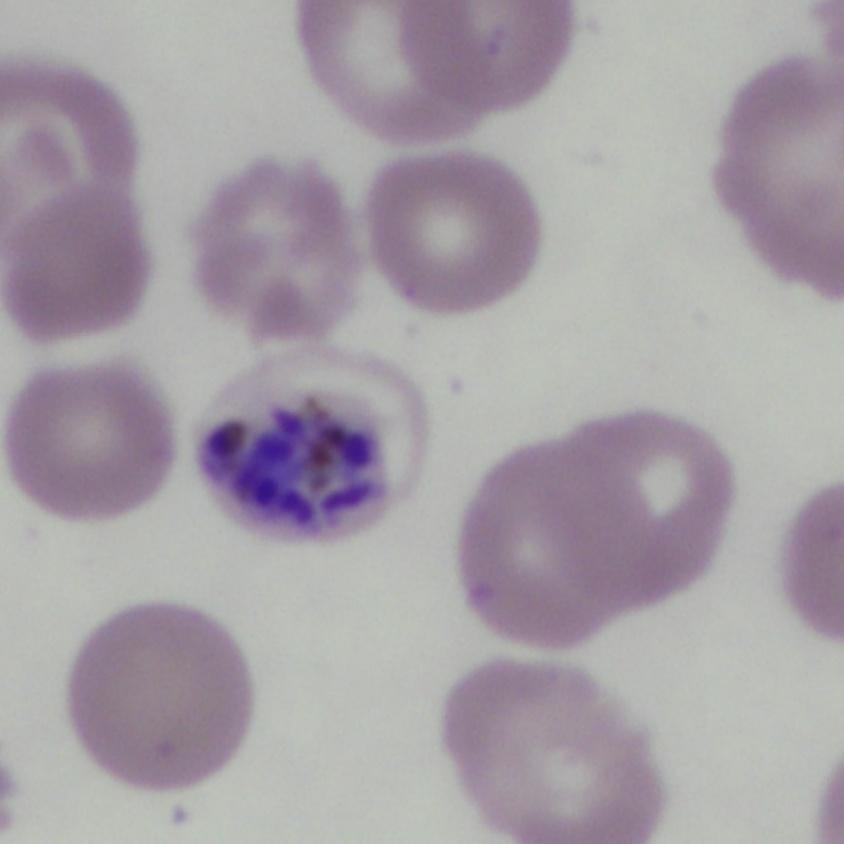Infected: (192, 341, 433, 543)
Uninfected: (446, 659, 655, 844), (542, 411, 739, 607), (458, 445, 635, 646), (66, 599, 251, 786), (724, 55, 844, 319), (0, 53, 149, 262), (192, 153, 362, 331), (288, 0, 499, 141), (4, 367, 179, 524), (368, 151, 543, 306), (0, 187, 154, 347), (392, 0, 567, 108)
